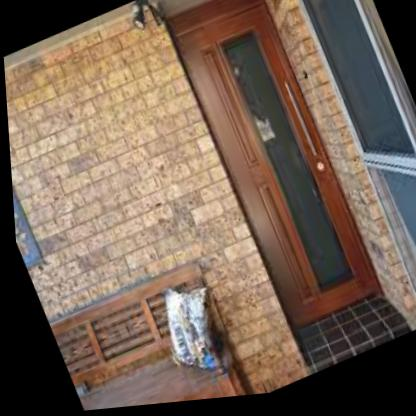Door: (161, 0, 378, 344)
